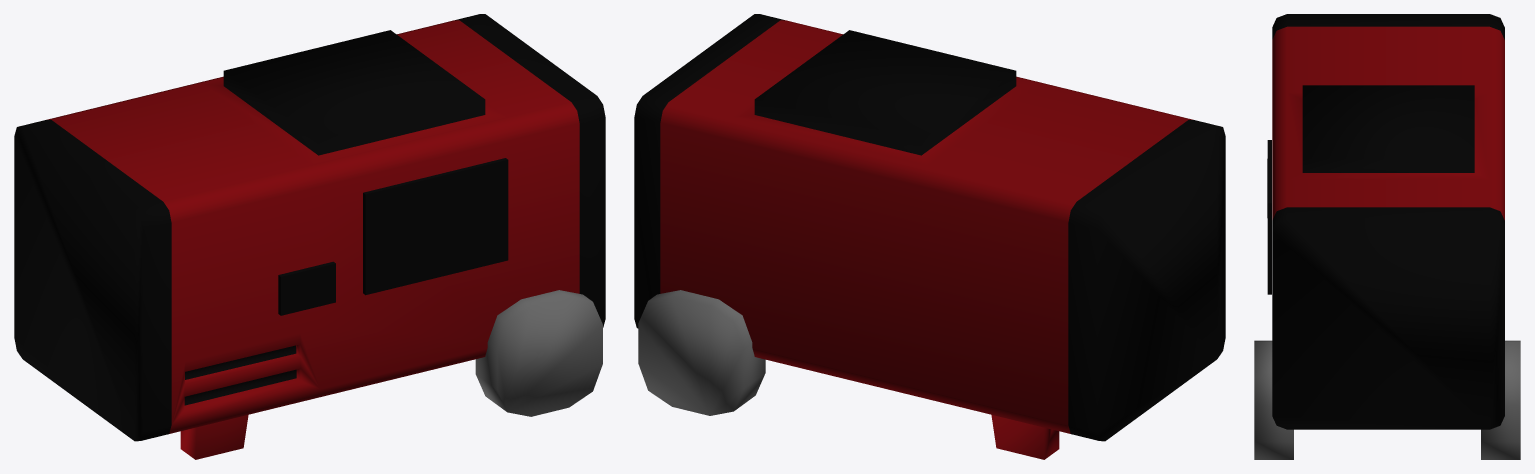
File: Generator.fbx
3 renders of one model, left to right at view 1: azimuth 30°, elevation 25°; view 2: azimuth 150°, elevation 25°; view 3: azimuth 270°, elevation 25°, orthographic. The views are drawn at different scales.
Parts seen in each view (by area): view 1: Cube, Plane, Cube.002, Plane.001; view 2: Cube, Cube.002; view 3: Cube, Cube.002, Plane.
Part boxes in pixels (x1,y1,x2,y2): Cube: (14, 14, 605, 459); Plane: (363, 158, 508, 295); Cube.002: (475, 290, 602, 416); Plane.001: (278, 261, 335, 315); Cube: (634, 14, 1225, 459); Cube.002: (638, 290, 765, 415); Cube: (1272, 14, 1504, 429); Cube.002: (1254, 340, 1520, 459); Plane: (1267, 140, 1271, 294).
Bounding box in the file's own units: 285 × 157 × 178.
